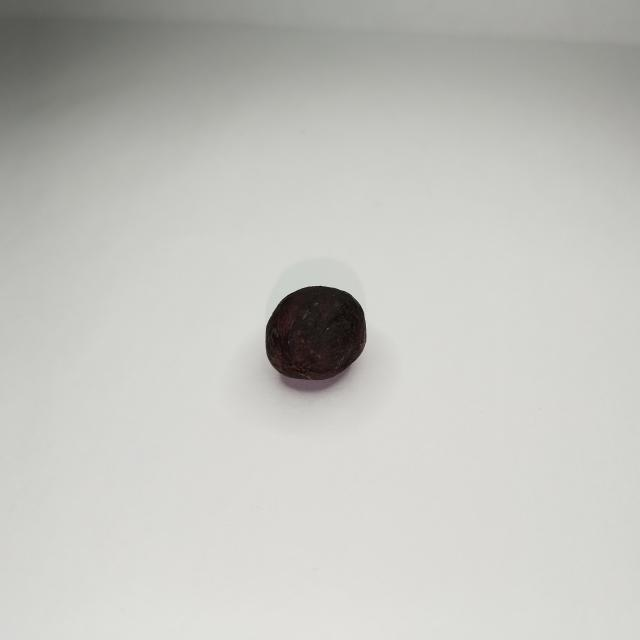Danado: (266, 286, 367, 379)
